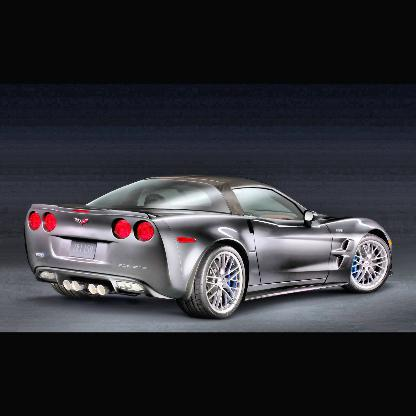Chevrolet Corvette ZR1 2012: (21, 172, 398, 324)
